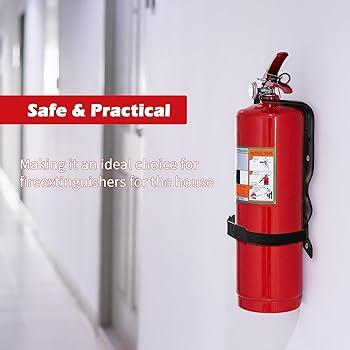wall-mounted: (222, 41, 319, 327)
